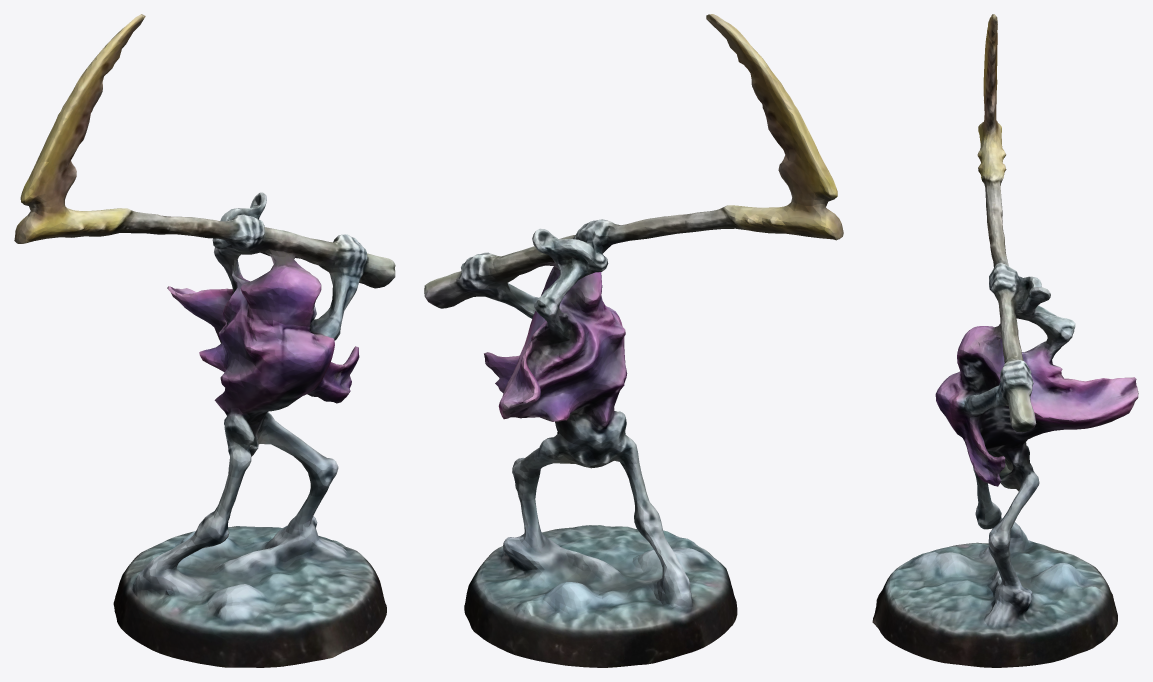
The model's file is underworlds.sepulchral.the-harvester.glb.
3 renders of one model, left to right at view 1: azimuth 30°, elevation 25°; view 2: azimuth 150°, elevation 25°; view 3: azimuth 270°, elevation 25°, orthographic. The views are drawn at different scales.
Bounding box in the file's own units: 0.3773 × 0.5646 × 0.2462.
1 material, 1 textured.
